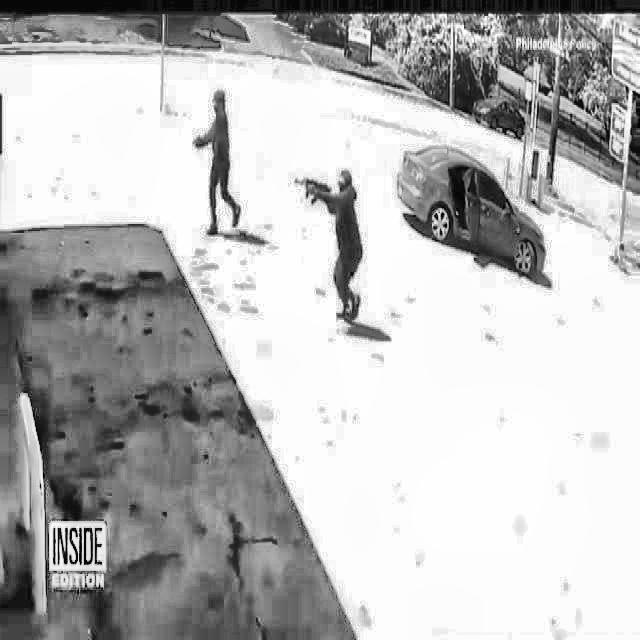pistol: (290, 174, 332, 208)
robbery: (285, 156, 380, 336), (167, 91, 252, 246)
